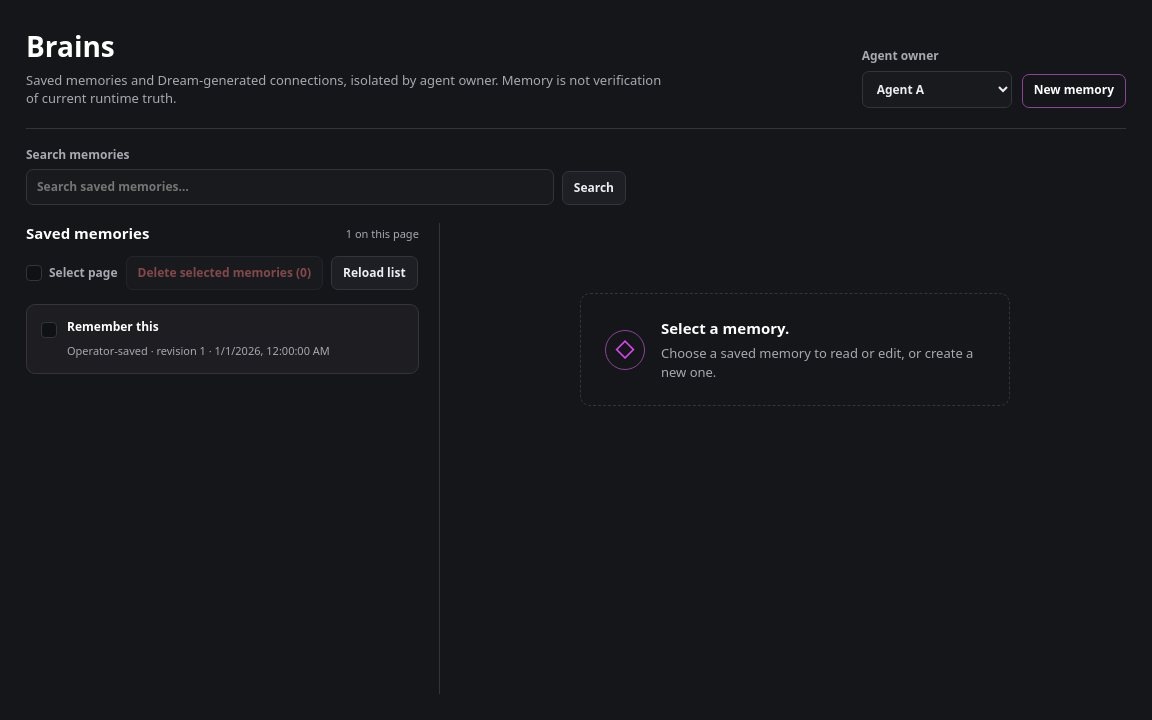
Scenario: Brains workspace › provides a detail empty state and identifies the opened memory card
Expected: the element named "Memory detail" is shown, [580,293,1010,406]
Click the button that starts with "Remember this" at (113, 327), box [67,319,404,359]
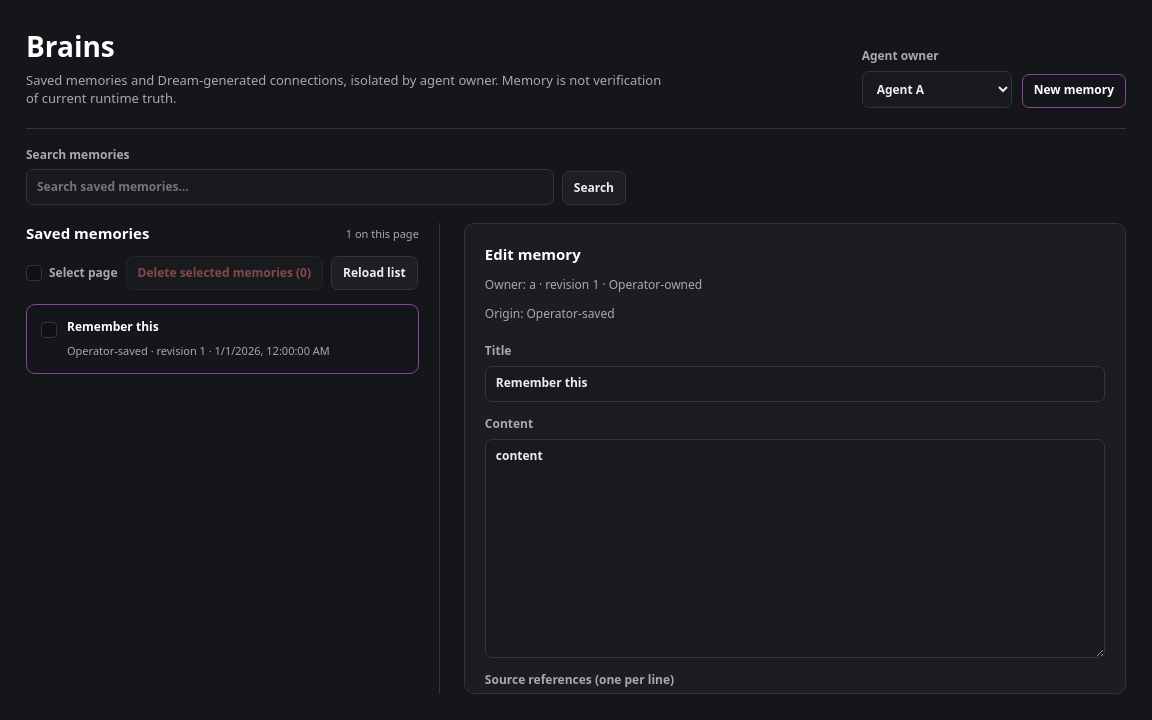
Expected: the element named "Memory editor" is shown, [464,223,1126,694]
